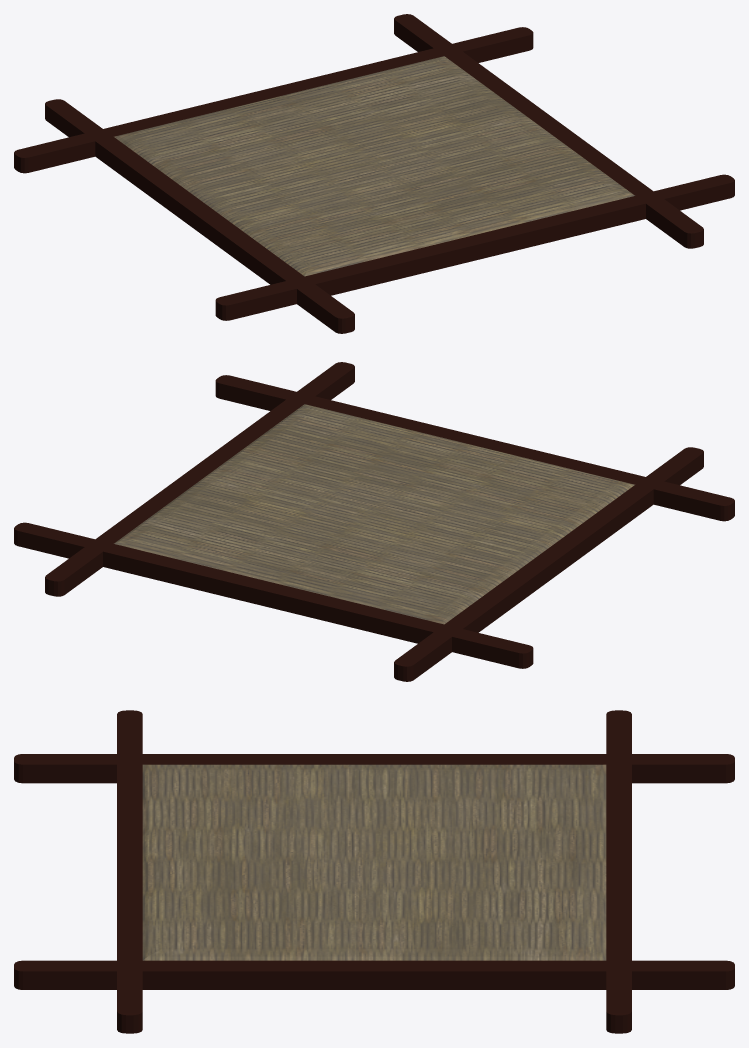
The model's file is bridge.fbx.
The picture shows the model from 3 angles, top to bottom: view 1: azimuth 30°, elevation 25°; view 2: azimuth 150°, elevation 25°; view 3: azimuth 270°, elevation 25°; orthographic projection. The views are drawn at different scales.
Parts seen in each view (by area): view 1: TatamiBridge; view 2: TatamiBridge; view 3: TatamiBridge.
Part boxes in pixels (x1,y1,x2,y2): TatamiBridge: [14, 14, 734, 333]; TatamiBridge: [14, 362, 734, 681]; TatamiBridge: [14, 710, 734, 1033].
Bounding box in the file's own units: 1400 × 47 × 1400.
2 materials, 1 textured.
